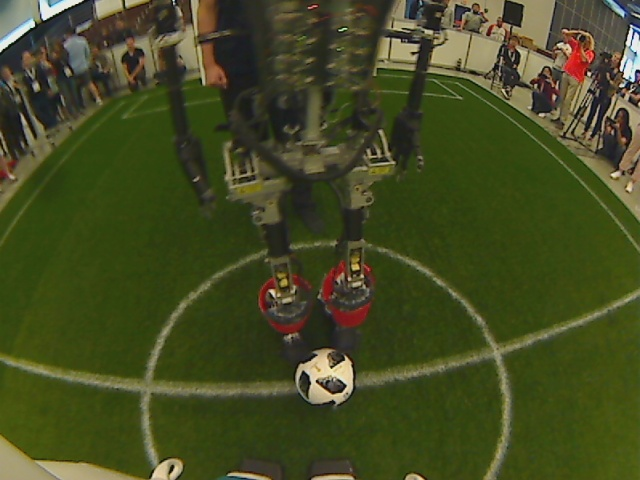ball: (293, 346, 358, 406)
